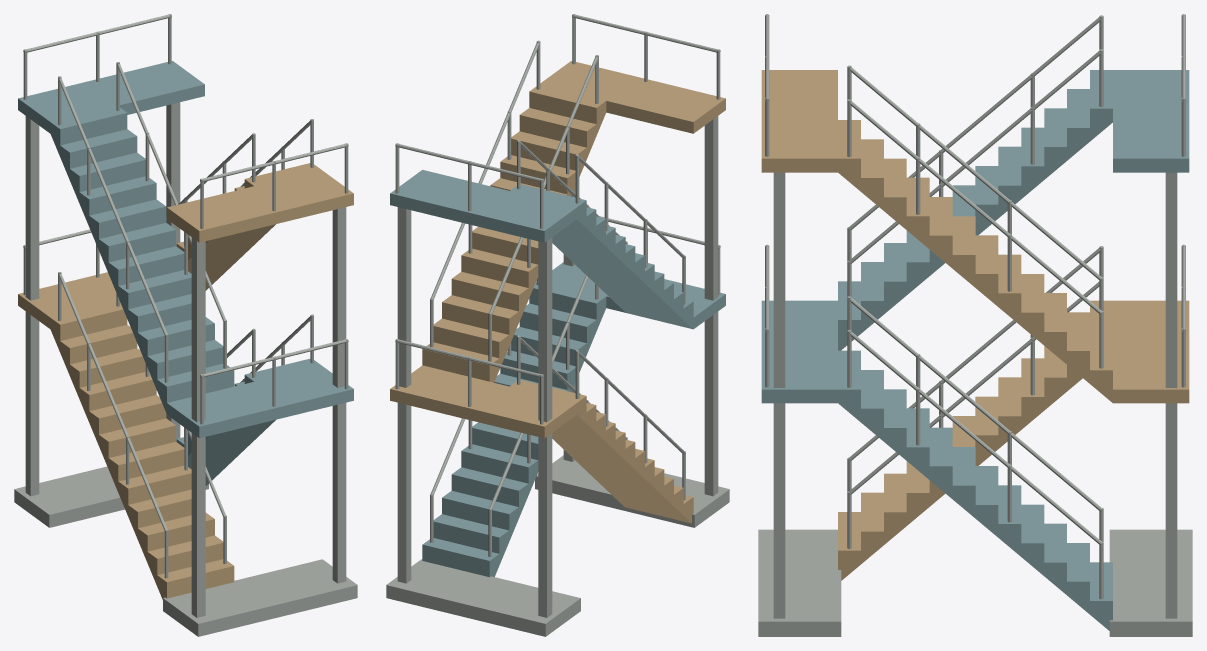
The picture shows the model from 3 angles, left to right: view 1: azimuth 30°, elevation 25°; view 2: azimuth 150°, elevation 25°; view 3: azimuth 270°, elevation 25°; orthographic projection. The views are drawn at different scales.
Parts seen in each view (by area): view 1: RouteBWholeUpperRearReturningFlight, RouteAWholeLowerRearRisingFlight, WholeGroundedEntryBand-1, RouteATopFrontWholeUpperExitLanding, RouteBFrontWholeIndependentIntermediateLanding, RouteBTopRearWholeUpperExitLanding, WholeCommonCornerColumn1-1.13, WholeCommonCornerColumn-1-1.13, WholeCommonCornerColumn-11.13, WholeGroundedEntryBand1, RouteAWholeUpperFrontReturningFlight, RouteBWholeLowerFrontRisingFlight (+8 smaller); view 2: RouteAWholeUpperFrontReturningFlight, RouteBWholeLowerFrontRisingFlight, RouteBWholeUpperRearReturningFlight, RouteAWholeLowerRearRisingFlight, WholeGroundedEntryBand1, RouteBTopRearWholeUpperExitLanding, RouteARearWholeIndependentIntermediateLanding, RouteATopFrontWholeUpperExitLanding, WholeCommonCornerColumn-1-1.13, WholeCommonCornerColumn1-1.13, WholeCommonCornerColumn11.13, WholeGroundedEntryBand-1 (+8 smaller); view 3: RouteAWholeUpperFrontReturningFlight, RouteBWholeLowerFrontRisingFlight, RouteBWholeUpperRearReturningFlight, RouteAWholeLowerRearRisingFlight, WholeGroundedEntryBand-1, WholeGroundedEntryBand1, RouteATopFrontWholeUpperExitLanding, RouteBTopRearWholeUpperExitLanding, RouteARearWholeIndependentIntermediateLanding, RouteBFrontWholeIndependentIntermediateLanding, WholeCommonCornerColumn-11.13, WholeCommonCornerColumn11.13 (+7 smaller).
Part boxes in pixels (x1,y1,x2,y2): RouteBWholeUpperRearReturningFlight: [50, 106, 234, 413]; RouteAWholeLowerRearRisingFlight: [50, 302, 234, 599]; WholeGroundedEntryBand-1: [163, 559, 357, 636]; RouteATopFrontWholeUpperExitLanding: [167, 169, 353, 242]; RouteBFrontWholeIndependentIntermediateLanding: [167, 365, 353, 438]; RouteBTopRearWholeUpperExitLanding: [18, 61, 204, 133]; WholeCommonCornerColumn1-1.13: [25, 116, 39, 496]; WholeCommonCornerColumn-1-1.13: [191, 237, 205, 617]; WholeCommonCornerColumn-11.13: [332, 207, 346, 583]; WholeGroundedEntryBand1: [14, 466, 208, 527]; RouteAWholeUpperFrontReturningFlight: [176, 163, 320, 290]; RouteBWholeLowerFrontRisingFlight: [176, 358, 320, 485]; RouteAWholeUpperFrontReturningFlight: [422, 85, 606, 382]; RouteBWholeLowerFrontRisingFlight: [422, 282, 606, 577]; RouteBWholeUpperRearReturningFlight: [510, 184, 693, 329]; RouteAWholeLowerRearRisingFlight: [510, 380, 693, 523]; WholeGroundedEntryBand1: [386, 559, 580, 636]; RouteBTopRearWholeUpperExitLanding: [390, 169, 576, 242]; RouteARearWholeIndependentIntermediateLanding: [390, 365, 576, 438]; RouteATopFrontWholeUpperExitLanding: [540, 61, 725, 133]; WholeCommonCornerColumn-1-1.13: [704, 116, 718, 496]; WholeCommonCornerColumn1-1.13: [538, 237, 552, 617]; WholeCommonCornerColumn11.13: [397, 207, 411, 583]; WholeGroundedEntryBand-1: [535, 455, 729, 527]; RouteAWholeUpperFrontReturningFlight: [838, 120, 1112, 402]; RouteBWholeLowerFrontRisingFlight: [838, 350, 1112, 630]; RouteBWholeUpperRearReturningFlight: [838, 70, 1112, 350]; RouteAWholeLowerRearRisingFlight: [838, 300, 1112, 580]; WholeGroundedEntryBand-1: [758, 529, 841, 636]; WholeGroundedEntryBand1: [1109, 529, 1192, 636]; RouteATopFrontWholeUpperExitLanding: [761, 70, 837, 172]; RouteBTopRearWholeUpperExitLanding: [1113, 70, 1189, 172]; RouteARearWholeIndependentIntermediateLanding: [1113, 300, 1189, 403]; RouteBFrontWholeIndependentIntermediateLanding: [761, 300, 837, 403]; WholeCommonCornerColumn-11.13: [773, 172, 785, 618]; WholeCommonCornerColumn11.13: [1165, 172, 1177, 618].
Bounding box in the file's own units: 2.56 × 6.95 × 5.12.
